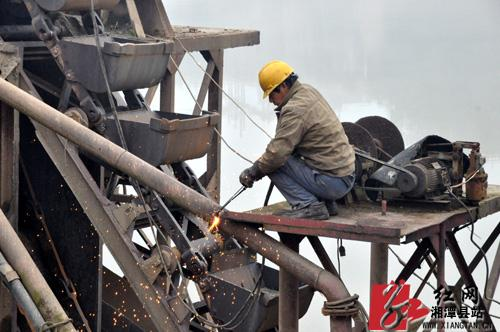boots: (281, 200, 330, 219), (325, 198, 338, 216)
gloves: (239, 160, 265, 187)
hard-hat: (258, 60, 294, 100)
person: (239, 59, 357, 220)
